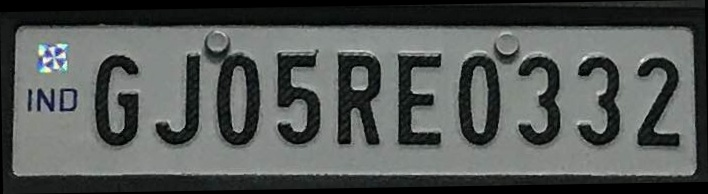character: (333, 48, 381, 145), (214, 48, 259, 147), (155, 51, 202, 145), (575, 54, 623, 146), (275, 48, 320, 145), (397, 51, 443, 145), (634, 55, 681, 147), (515, 51, 560, 145), (93, 54, 138, 146), (456, 54, 500, 146)
